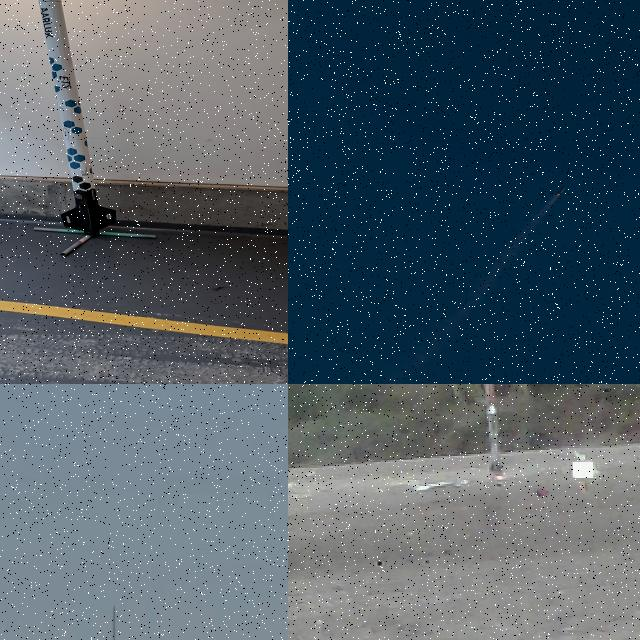Rocket: (38, 0, 117, 235), (483, 384, 503, 474), (554, 185, 566, 196)
